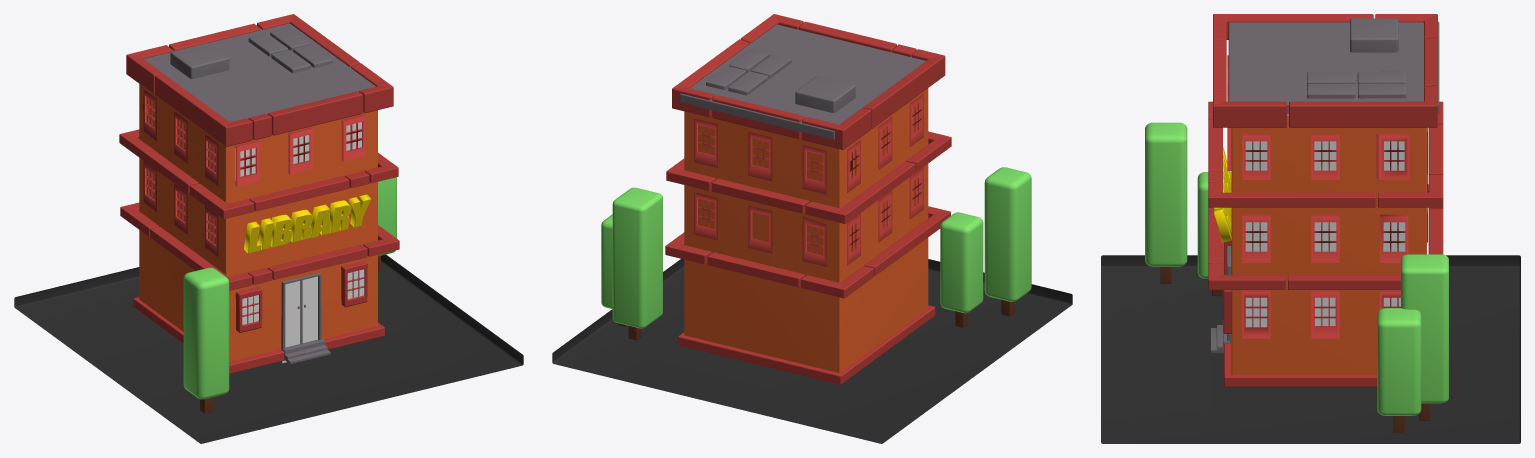
The model's file is library.fbx.
3 views of the same model, side by side, from view 1: azimuth 30°, elevation 25°; view 2: azimuth 150°, elevation 25°; view 3: azimuth 270°, elevation 25° (orthographic). The views are drawn at different scales.
Parts seen in each view (by area): view 1: Plane.008, Cube.001, Plane.004, Cube.002, Cube.003, Cube.032, Plane.006, Plane.007, Text, Cube, Cube.007, Cube.020 (+7 smaller); view 2: Cube.001, Plane.008, Cube.002, Plane.004, Cube.003, Cube.050, Cube.032, Plane.006, Plane.007, Cube.034, Cube, Cube.020 (+3 smaller); view 3: Plane.008, Cube.001, Cube.002, Plane.004, Cube.003, Cube.032, Plane.006, Cube.050, Cube.043, Plane.007, Cube, Cube.020 (+13 smaller).
Boxes of the visible parts, x1,y1,x2,y2 form: Plane.008: (14, 254, 523, 443); Cube.001: (139, 84, 377, 361); Plane.004: (126, 14, 393, 146); Cube.002: (144, 23, 375, 121); Cube.003: (142, 89, 365, 256); Cube.032: (183, 267, 229, 399); Plane.006: (119, 129, 398, 219); Plane.007: (120, 202, 399, 290); Text: (244, 194, 370, 253); Cube: (133, 297, 384, 373); Cube.007: (282, 276, 317, 363); Cube.020: (248, 33, 332, 73); Cube.001: (684, 88, 928, 372); Plane.008: (552, 259, 1072, 443); Cube.002: (680, 24, 925, 139); Plane.004: (672, 14, 945, 149); Cube.003: (694, 94, 923, 266); Cube.050: (612, 187, 662, 328); Cube.032: (984, 167, 1031, 301); Plane.006: (666, 131, 951, 223); Plane.007: (665, 206, 950, 298); Cube.034: (940, 212, 983, 313); Cube: (678, 305, 935, 384); Cube.020: (728, 49, 791, 95); Plane.008: (1101, 255, 1520, 443); Cube.001: (1231, 113, 1426, 374); Cube.002: (1228, 21, 1439, 113); Plane.004: (1213, 14, 1437, 127); Cube.003: (1227, 55, 1427, 338); Cube.032: (1145, 122, 1187, 266); Plane.006: (1208, 101, 1443, 207); Cube.050: (1401, 254, 1448, 403); Cube.043: (1377, 308, 1421, 415); Plane.007: (1208, 184, 1443, 289); Cube: (1224, 334, 1377, 386); Cube.020: (1307, 71, 1406, 98).
Size of the model in its own units: 291 by 233 by 291.
